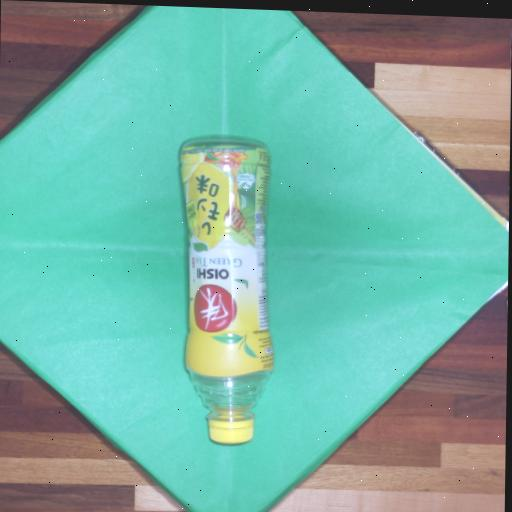bottle: (180, 141, 272, 444)
